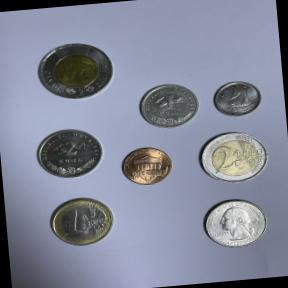coin: (31, 36, 120, 106), (30, 123, 110, 184), (194, 126, 272, 188), (196, 194, 276, 254), (44, 192, 119, 252), (117, 143, 176, 190), (209, 76, 267, 121)
